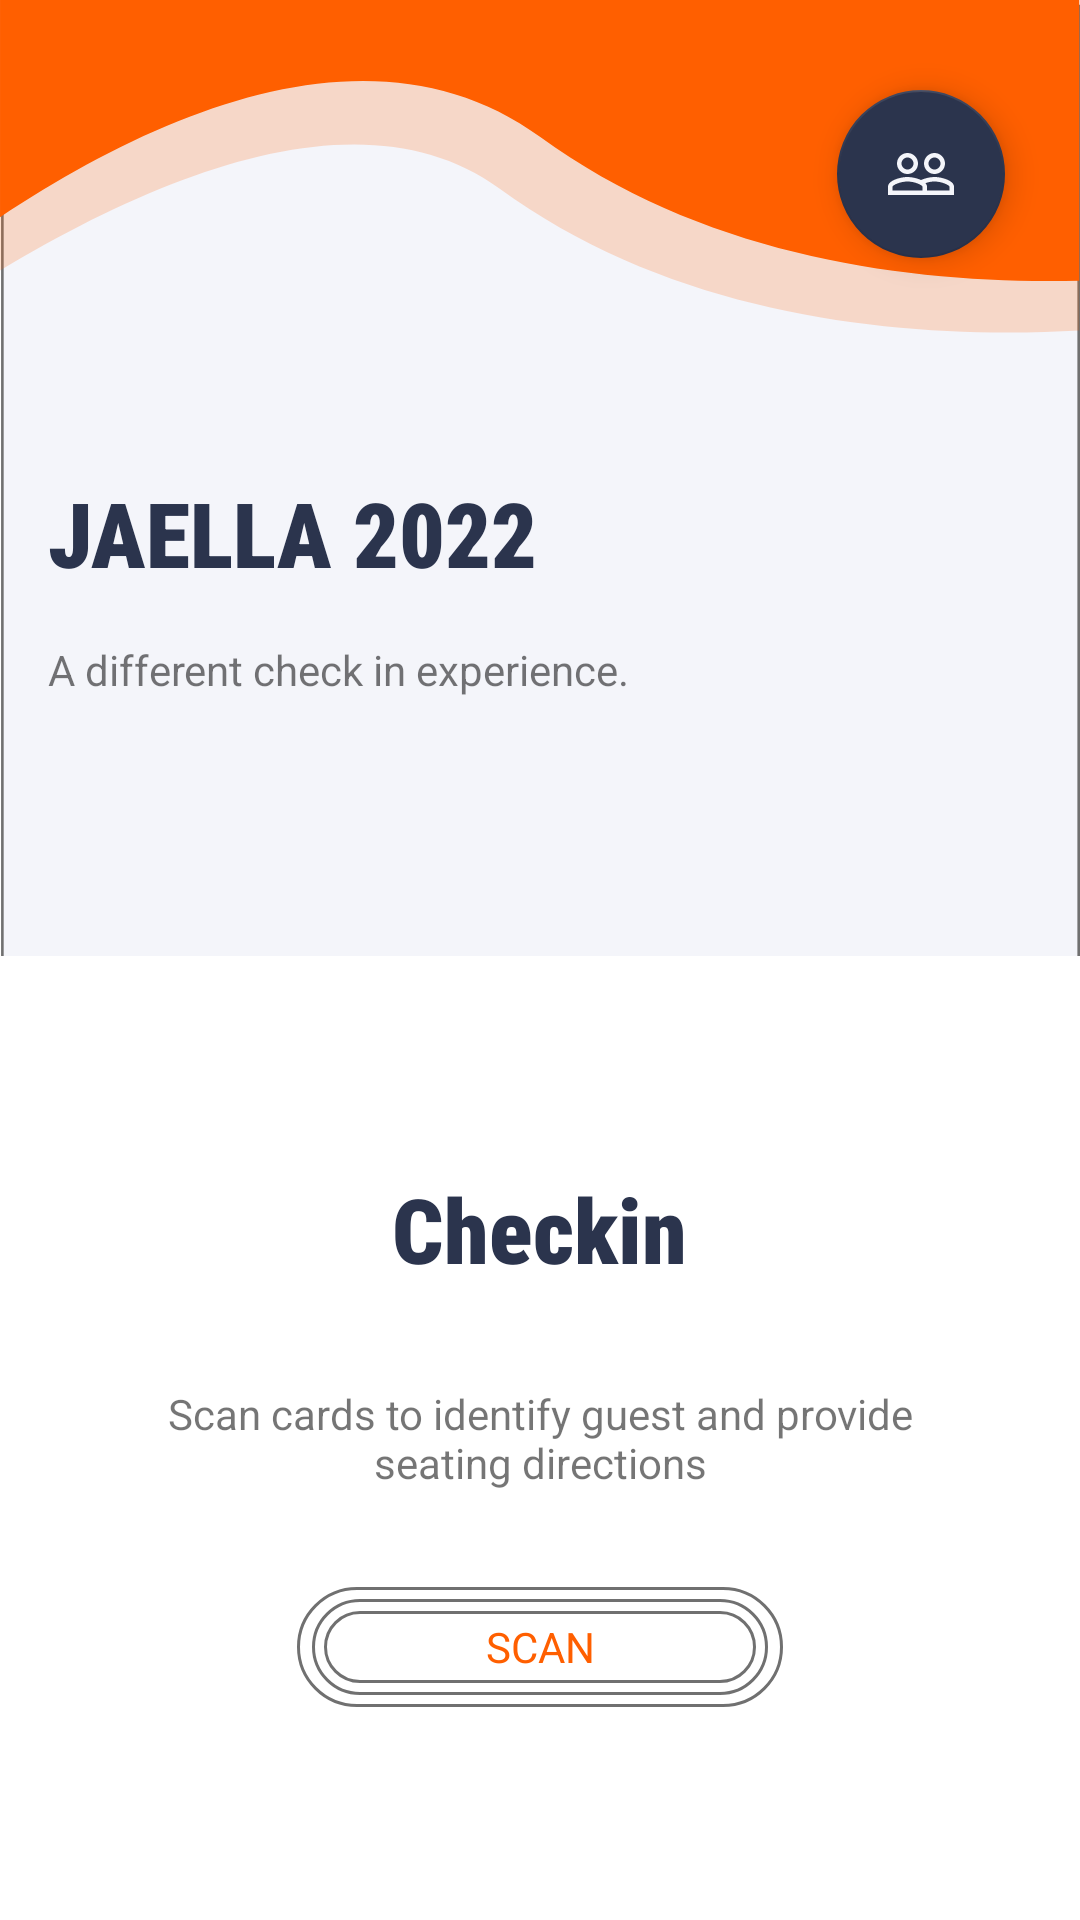

Icon click points for this 1080×1920 phone screenshot, format [x,y]:
people: [921,174]
